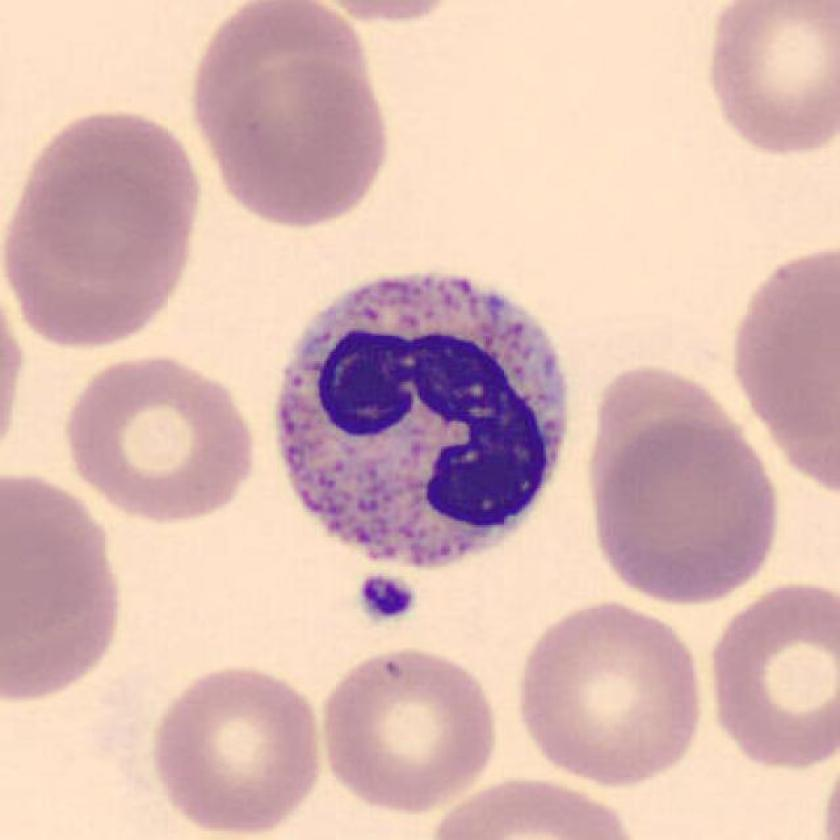neutrophil: (281, 274, 570, 564)
